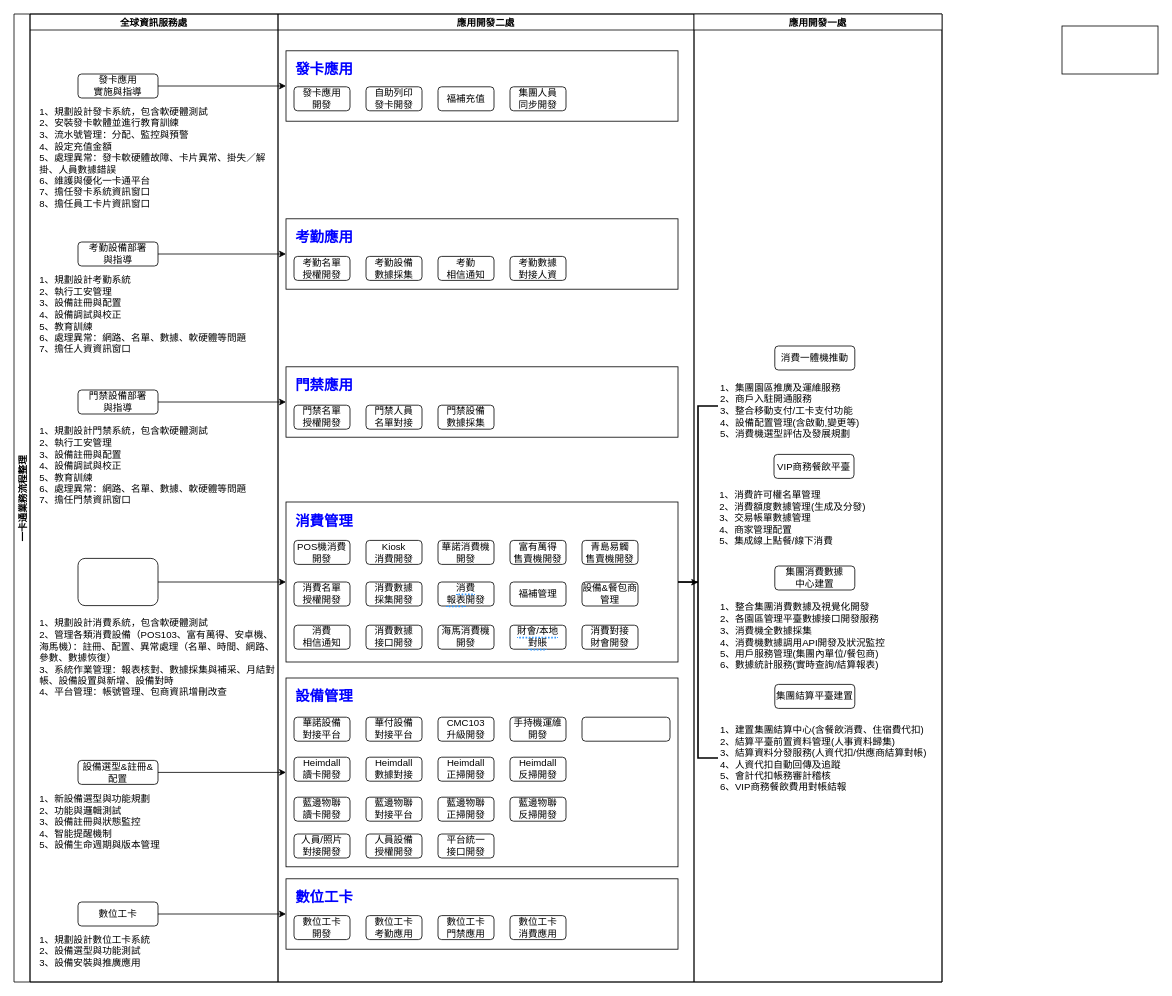
Some shapes in this 1172 by 996 pixel diagram are drawn without their labels. The shapes that lost their labels are listed below. From the top down, each one's centre as x and y in pixels, then its label:
point (117, 582): 消費設備部署 ( 數據採集&補采、月結異常處理)
point (625, 728): CMC100/ PAN201A 讀卡開發
